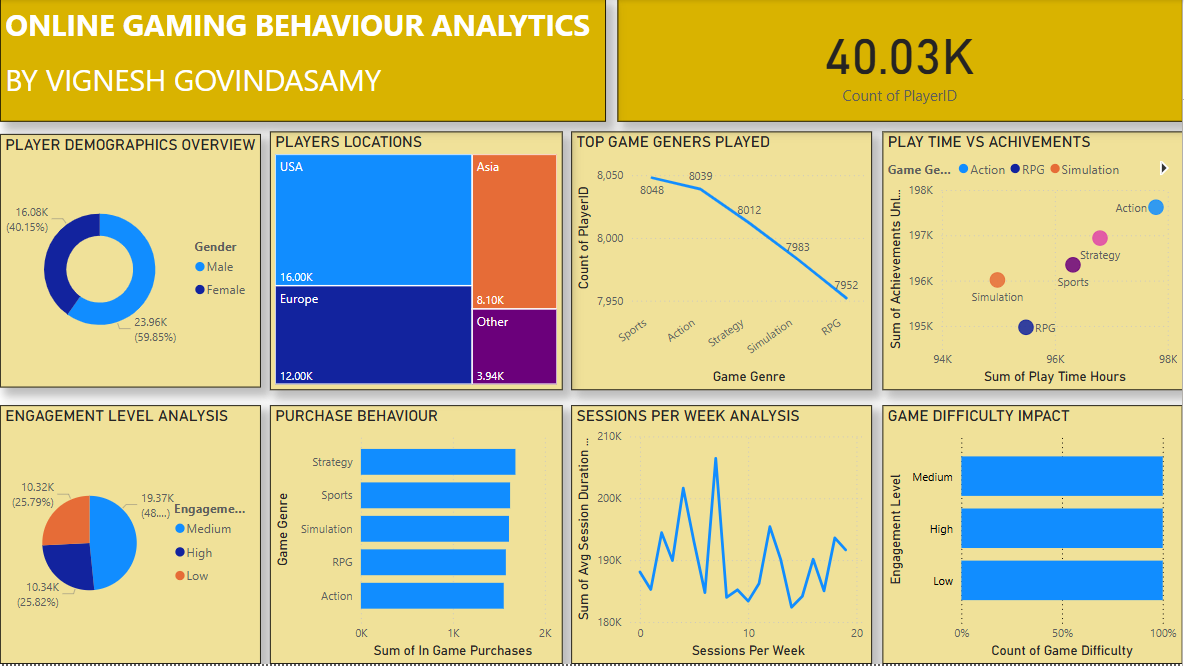

What the dashboard file says about the page in this screenshot:
{"tool":"powerbi","page":{"name":"Page 1","canvas":[1280,720],"ordinal":0},"visuals":[{"type":"donutChart","title":"PLAYER DEMOGRAPHICS OVERVIEW","fields":{"Category":["online_gaming_behavior_dataset.Gender"],"Y":["CountNonNull(online_gaming_behavior_dataset.PlayerID)"]},"box":[0,146.8,282.7,274.4],"z":0},{"type":"lineChart","title":"TOP GAME GENERS PLAYED","fields":{"Category":["online_gaming_behavior_dataset.Game Genre"],"Y":["CountNonNull(online_gaming_behavior_dataset.PlayerID)"]},"box":[618.9,144.1,325.2,279.9],"z":1000},{"type":"pieChart","title":"ENGAGEMENT LEVEL ANALYSIS","fields":{"Category":["online_gaming_behavior_dataset.Engagement Level"],"Y":["CountNonNull(online_gaming_behavior_dataset.PlayerID)"]},"box":[0,440.5,282.7,279.9],"z":2000},{"type":"clusteredBarChart","title":"PURCHASE BEHAVIOUR","fields":{"Category":["online_gaming_behavior_dataset.Game Genre"],"Y":["Sum(online_gaming_behavior_dataset.In Game Purchases)"]},"box":[292.3,440.5,317,279.9],"z":3000},{"type":"scatterChart","title":"PLAY TIME VS ACHIVEMENTS","fields":{"Y":["Sum(online_gaming_behavior_dataset.Achievements Unlocked)"],"X":["Sum(online_gaming_behavior_dataset.Play Time Hours)"],"Series":["online_gaming_behavior_dataset.Game Genre"]},"box":[955.1,144.1,325.2,279.9],"z":4000},{"type":"lineChart","title":"SESSIONS PER WEEK ANALYSIS","fields":{"Category":["online_gaming_behavior_dataset.Sessions Per Week"],"Y":["Sum(online_gaming_behavior_dataset.Avg Session Duration Minutes)"]},"box":[618.9,440.5,325.2,279.9],"z":5000},{"type":"hundredPercentStackedBarChart","title":"GAME DIFFICULTY IMPACT","fields":{"Y":["CountNonNull(online_gaming_behavior_dataset.Game Difficulty)"],"Category":["online_gaming_behavior_dataset.Engagement Level"]},"box":[955.5,439.8,324.8,280.1],"z":6000},{"type":"card","fields":{"Values":["CountNonNull(online_gaming_behavior_dataset.PlayerID)"]},"box":[668.6,0,611.7,132.6],"z":7000},{"type":"treemap","title":"PLAYERS LOCATIONS","fields":{"Group":["online_gaming_behavior_dataset.Location"],"Values":["CountNonNull(online_gaming_behavior_dataset.PlayerID)"]},"box":[292.3,144.1,317,279.9],"z":8000},{"type":"textbox","box":[0,0,655.9,133.1],"z":8001}]}

Visuals, with their boxes in screenshot pixels (x1, y1, x2, y2), scaled from the page's 1280x720 canvas onto the 1184x666 screenshot:
"PLAYER DEMOGRAPHICS OVERVIEW" donutChart: x1=0 y1=136 x2=261 y2=390
"TOP GAME GENERS PLAYED" lineChart: x1=572 y1=133 x2=873 y2=392
"ENGAGEMENT LEVEL ANALYSIS" pieChart: x1=0 y1=407 x2=261 y2=665
"PURCHASE BEHAVIOUR" clusteredBarChart: x1=270 y1=407 x2=564 y2=665
"PLAY TIME VS ACHIVEMENTS" scatterChart: x1=883 y1=133 x2=1183 y2=392
"SESSIONS PER WEEK ANALYSIS" lineChart: x1=572 y1=407 x2=873 y2=665
"GAME DIFFICULTY IMPACT" hundredPercentStackedBarChart: x1=884 y1=407 x2=1183 y2=665
card - CountNonNull(online_gaming_behavior_dataset.PlayerID): x1=618 y1=0 x2=1183 y2=123
"PLAYERS LOCATIONS" treemap: x1=270 y1=133 x2=564 y2=392
textbox: x1=0 y1=0 x2=607 y2=123
